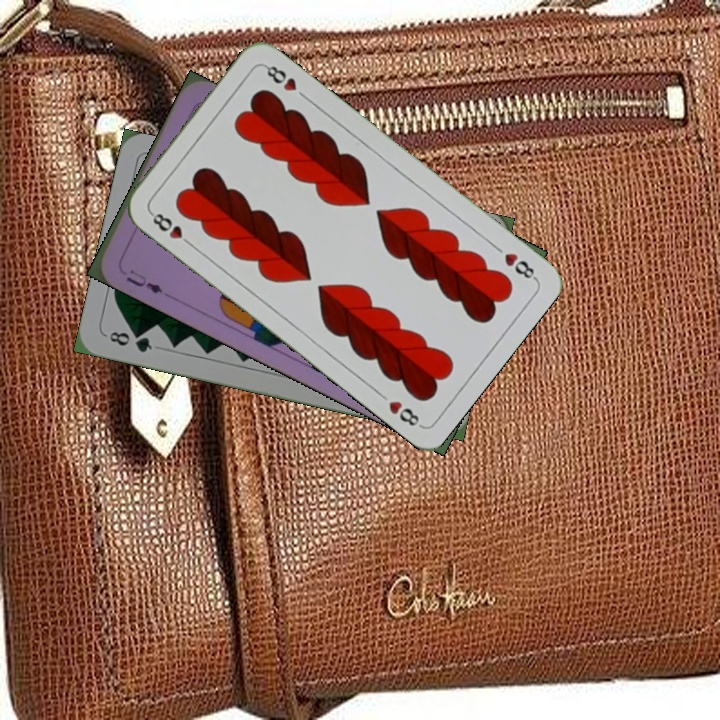EU: (122, 265, 166, 297)
G8: (102, 327, 155, 355)
H8: (146, 208, 196, 249), (500, 248, 539, 283)
